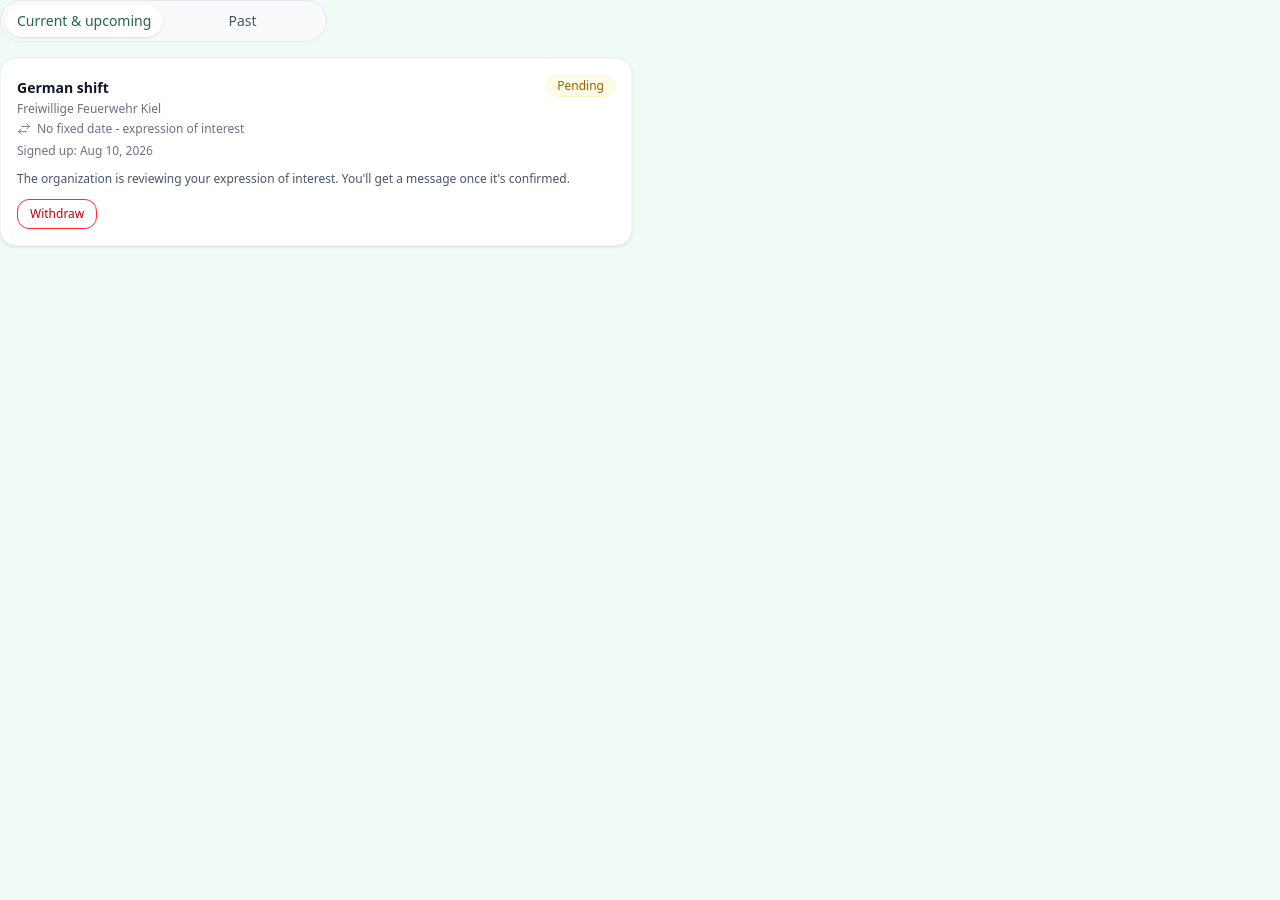
Test: my-signups withdraw failure › states the specific reason rather than the generic fallback
The width and height of the screenshot is (1280, 900).
Click the button "Withdraw".
click(57, 214)  # box [17,199,97,229]
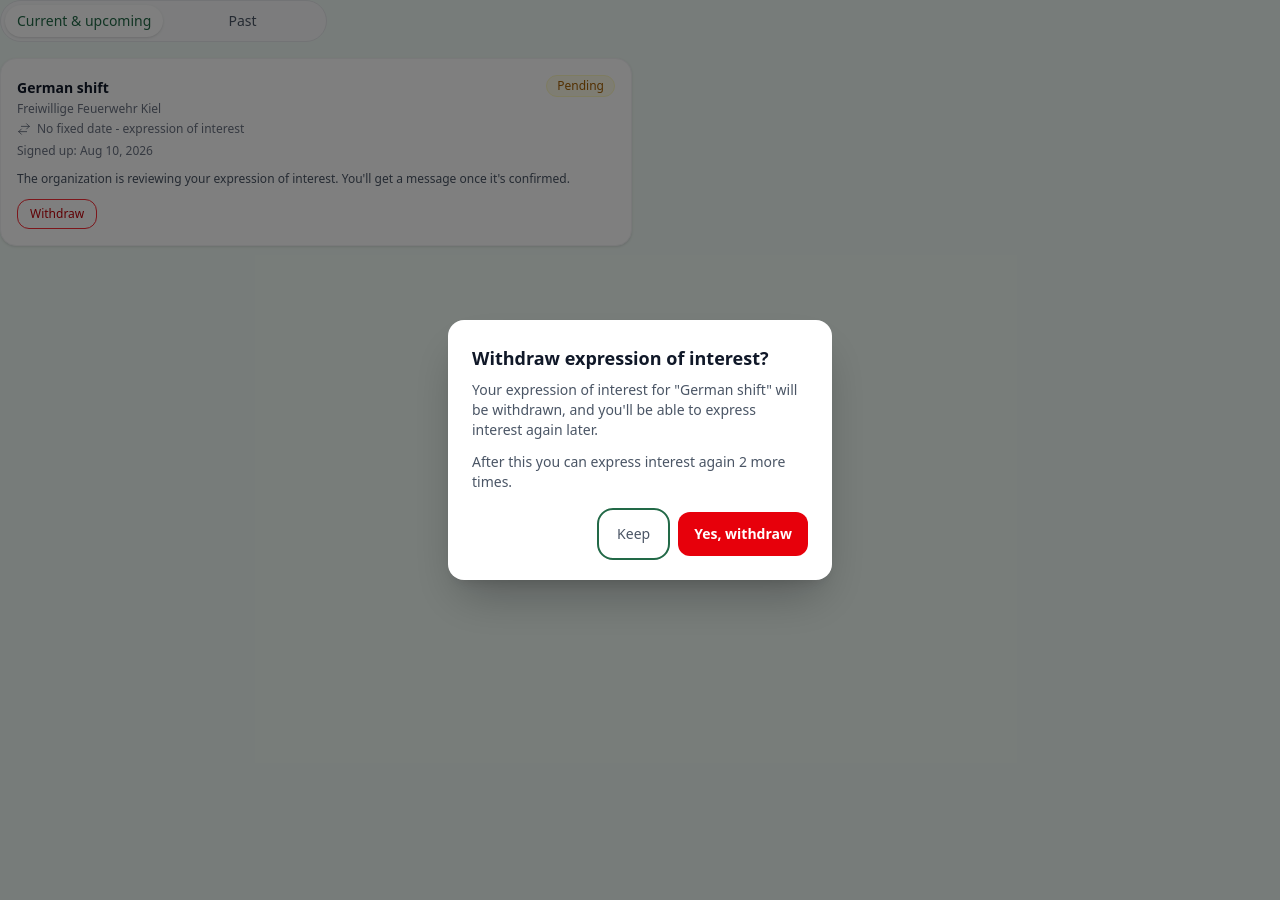
Click the button "Yes, withdraw".
click(743, 534)  # box [678,512,808,556]
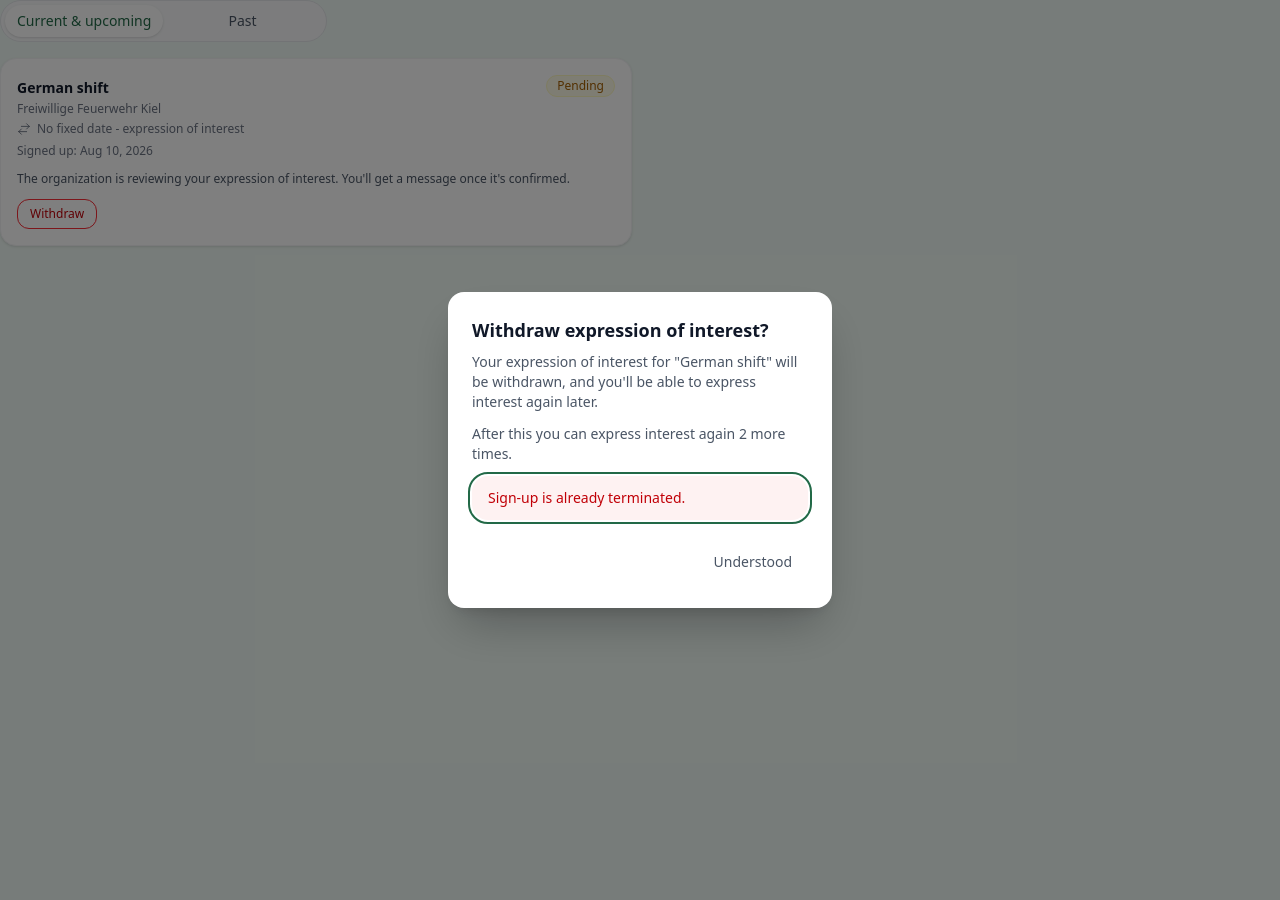
Check: the text "Sign-up is already terminated." is shown, box [472,476,808,520]
